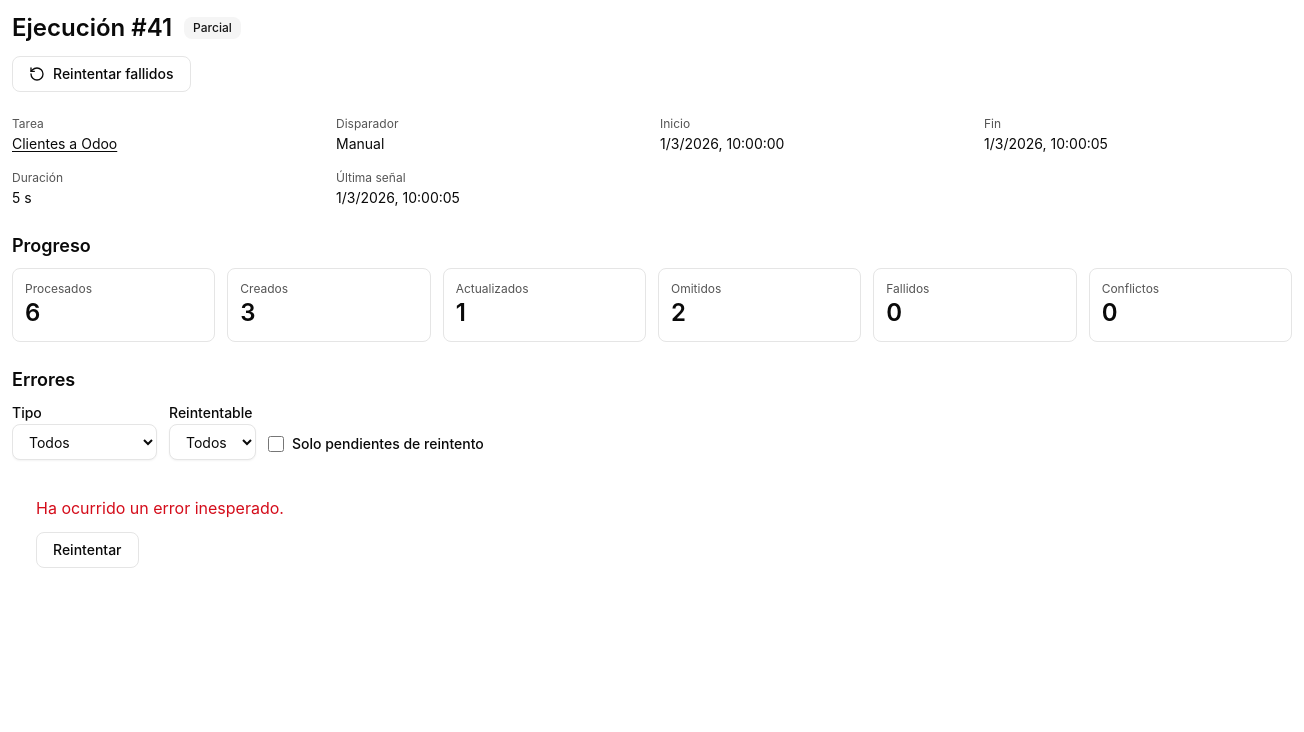
RunDetailPage errors › survives a failing error list and can retry it
Expected: the message "Ha ocurrido un error inesperado. Reintentar" is shown, [36,498,284,568]
Click the button "Reintentar": x=87, y=550 [36,532,138,568]
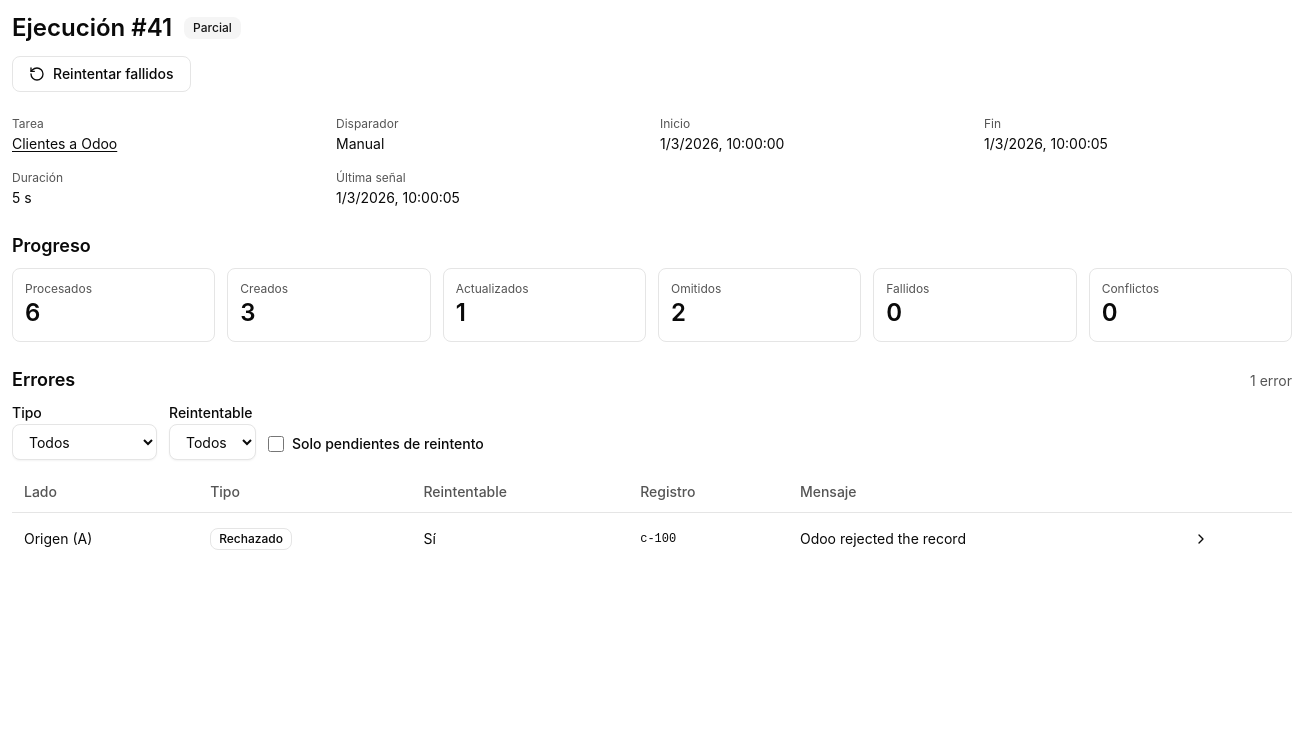
Result: the text "c-100" is shown at [628,512,788,564]
